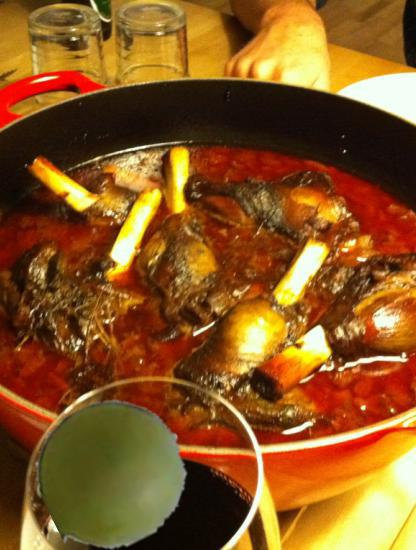Grape: (39, 400, 188, 549)
